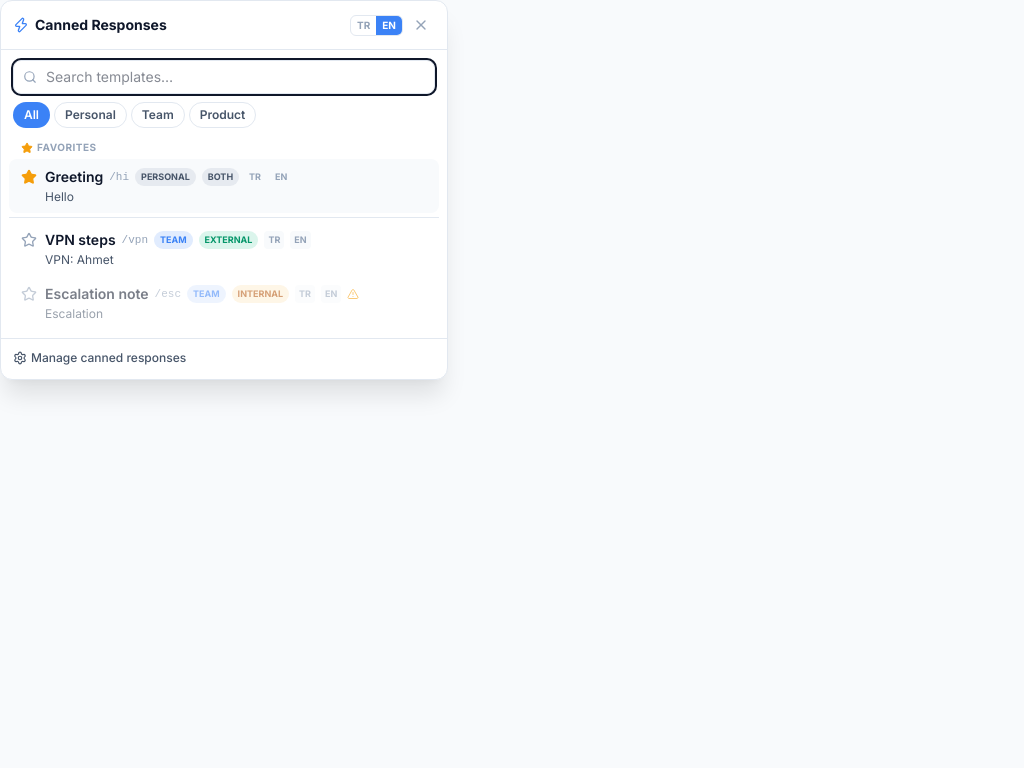
CannedResponsePicker › filters by search query over title/shortcut/content
Step 1. Type "vpn" into the field with placeholder "Search templates…" → (224, 77), box left=13, top=60, right=435, bottom=94
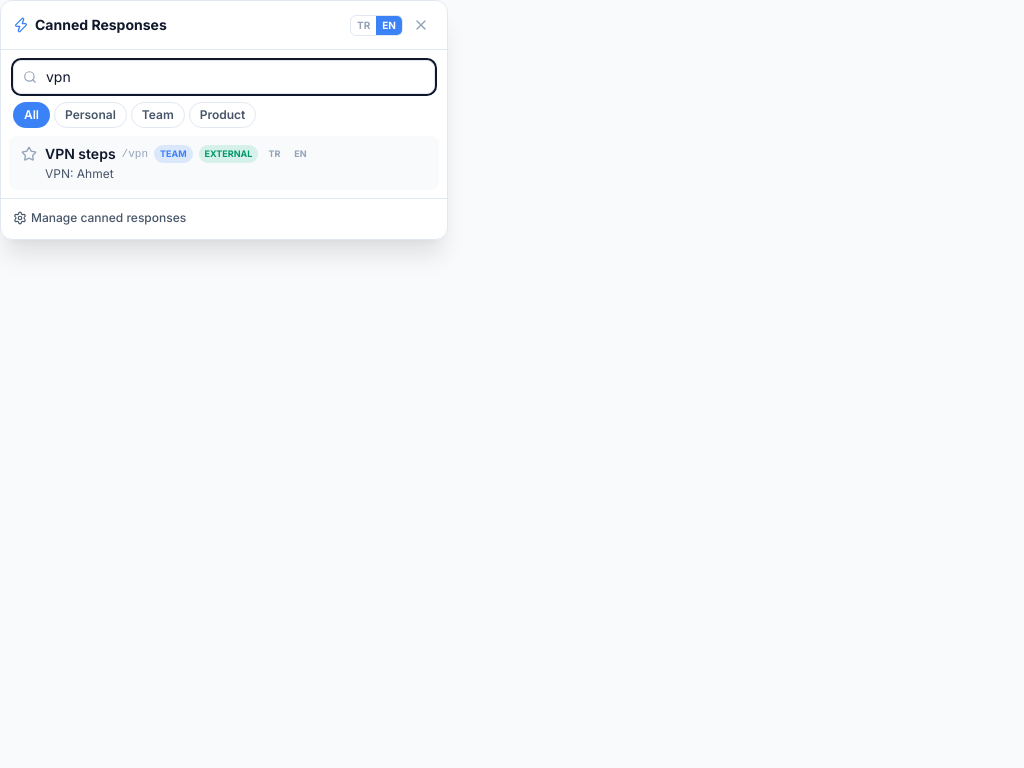
Check: the text "VPN steps" is shown, box left=45, top=144, right=116, bottom=164
Check: the option "Greeting" is gone
